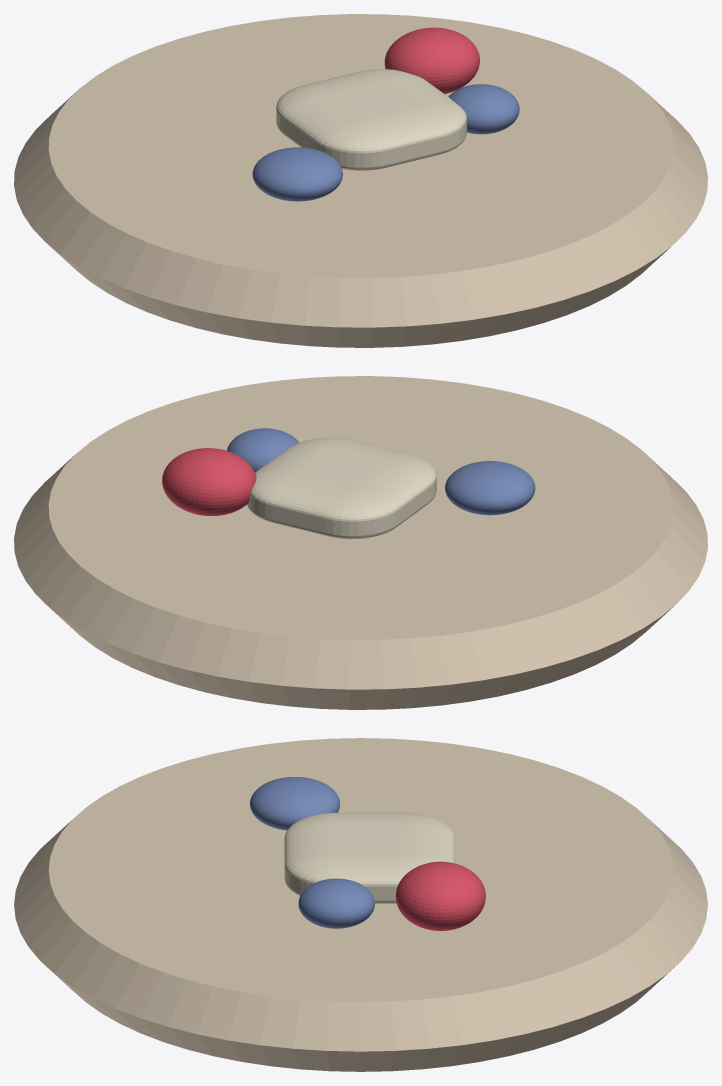
File: lyla pancake fruit.glb
3 views of the same model, one above another, from view 1: azimuth 30°, elevation 25°; view 2: azimuth 150°, elevation 25°; view 3: azimuth 270°, elevation 25° (orthographic).
Visible parts, largest first — view 1: Mesh_Mesh_head_geo.001_lambert2SG.001; view 2: Mesh_Mesh_head_geo.001_lambert2SG.001; view 3: Mesh_Mesh_head_geo.001_lambert2SG.001.
Boxes of the visible parts, box(x1,y1,x2,y2) form: Mesh_Mesh_head_geo.001_lambert2SG.001: box(14, 14, 707, 347); Mesh_Mesh_head_geo.001_lambert2SG.001: box(14, 376, 707, 709); Mesh_Mesh_head_geo.001_lambert2SG.001: box(14, 738, 707, 1071).
Bounding box in the file's own units: 0.1 × 0.02 × 0.1.
